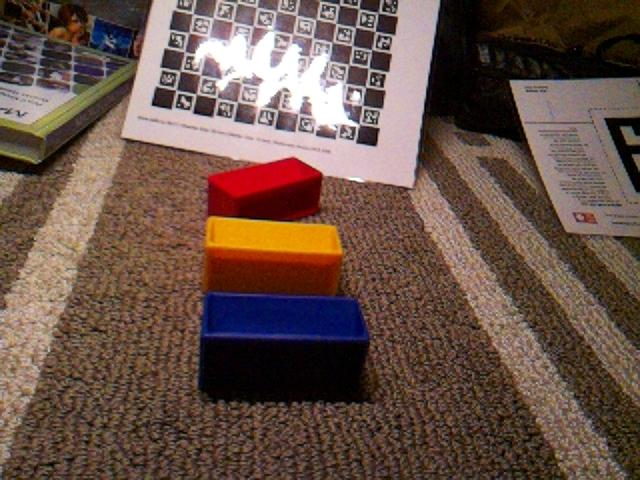blue: (197, 290, 371, 402)
red: (206, 156, 324, 221)
yellow: (202, 215, 345, 296)
